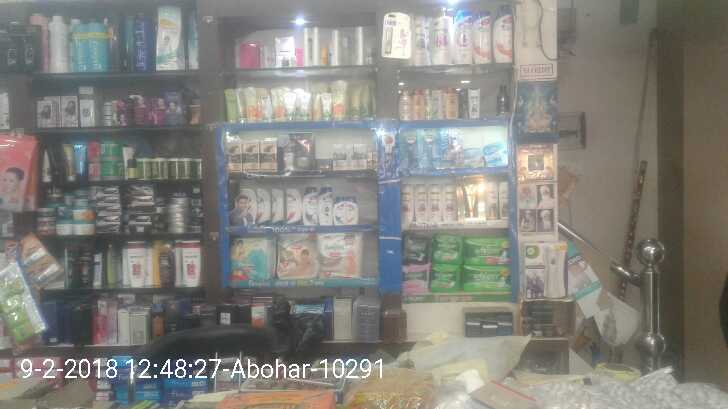venus: (441, 130, 462, 168), (420, 131, 439, 167), (402, 130, 418, 167), (486, 142, 509, 166), (466, 148, 486, 166)
